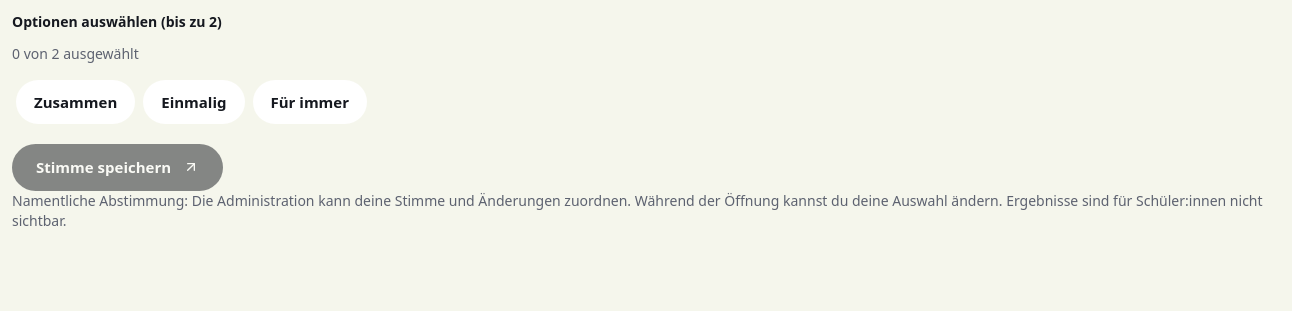
BallotForm › keeps changed choices when saving fails
Click the button "Zusammen": click(76, 102) [16, 80, 135, 124]
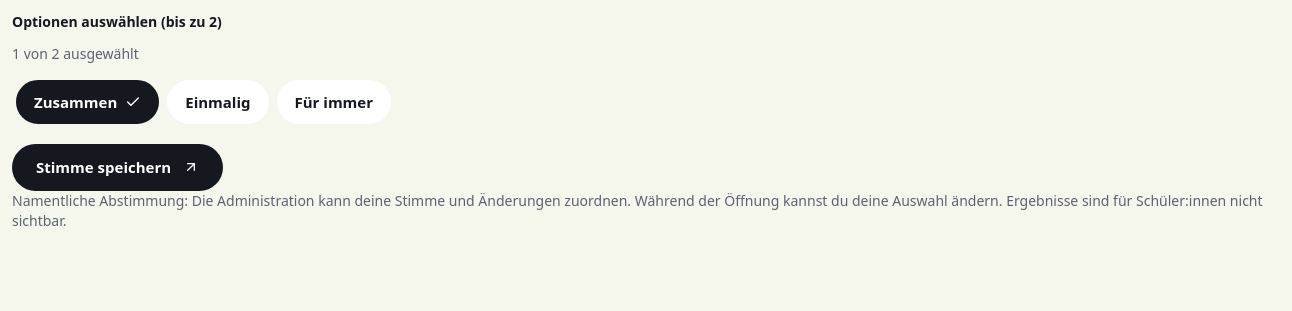
Click the button "Stimme speichern": click(118, 167) [12, 144, 223, 190]
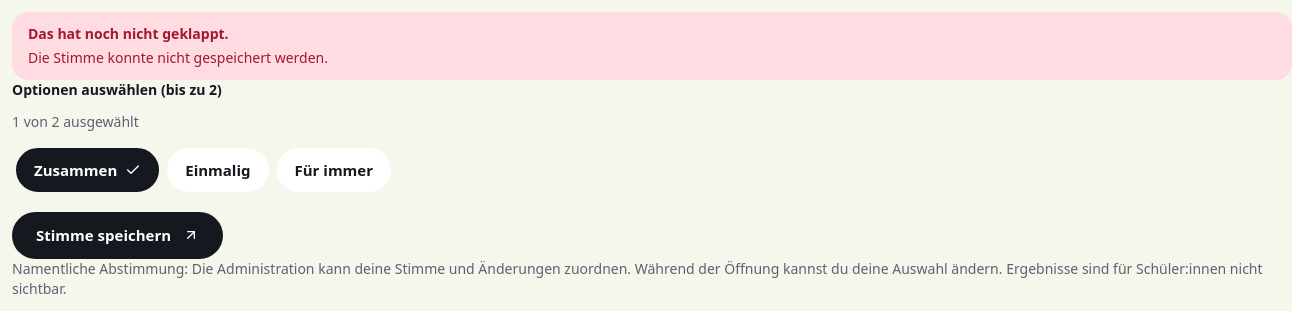
Check: the message shows "Die Stimme konnte nicht gespeichert werden.", box [28, 48, 328, 67]
